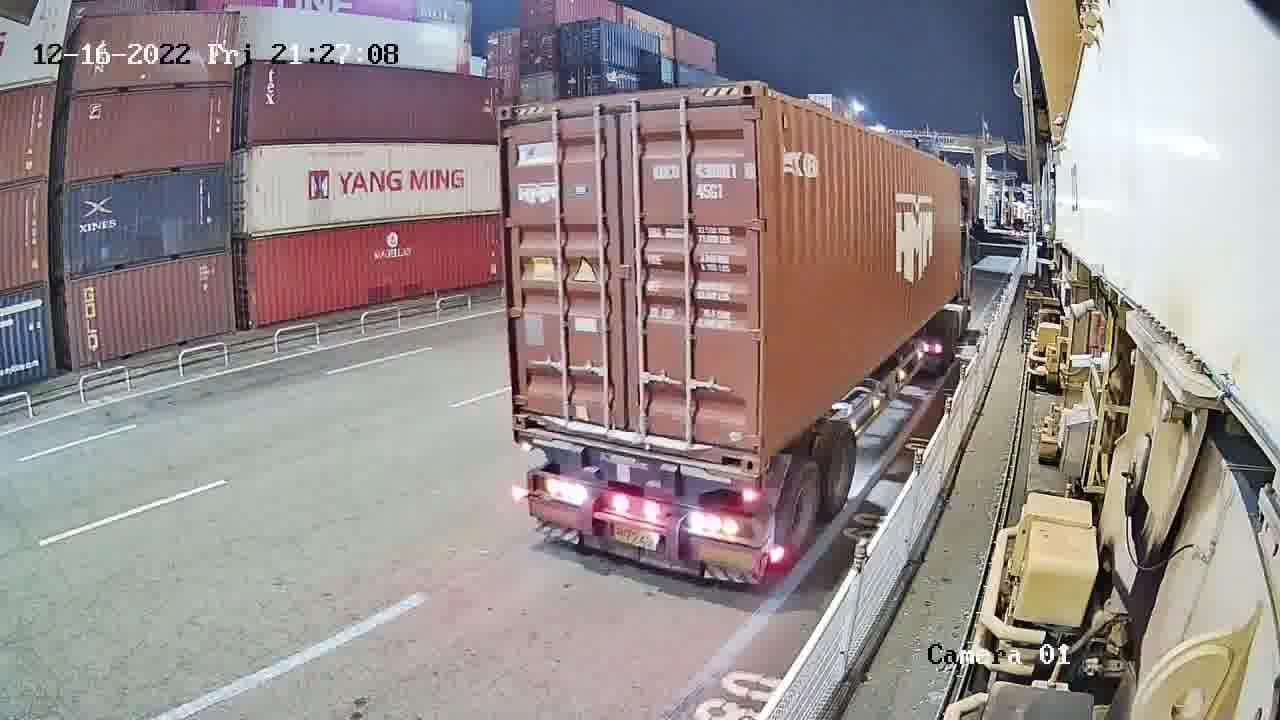Chassis: (516, 435, 763, 513)
Hole_L: (509, 392, 553, 441)
Hole_R: (714, 430, 761, 482)
Tire: (775, 463, 822, 559), (824, 428, 857, 516)
